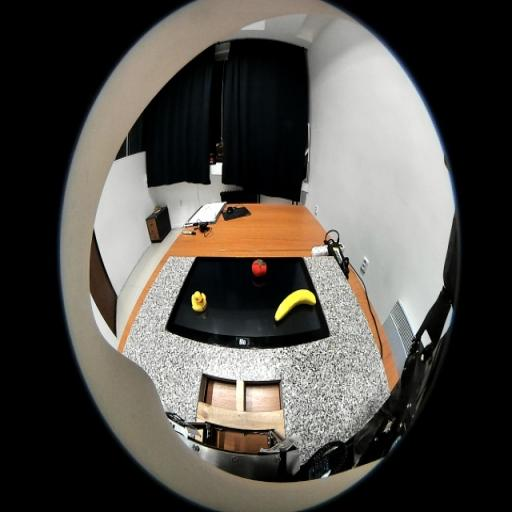Banana: (274, 289, 316, 322)
Duck: (191, 291, 207, 312)
Tomato: (251, 259, 268, 277)
